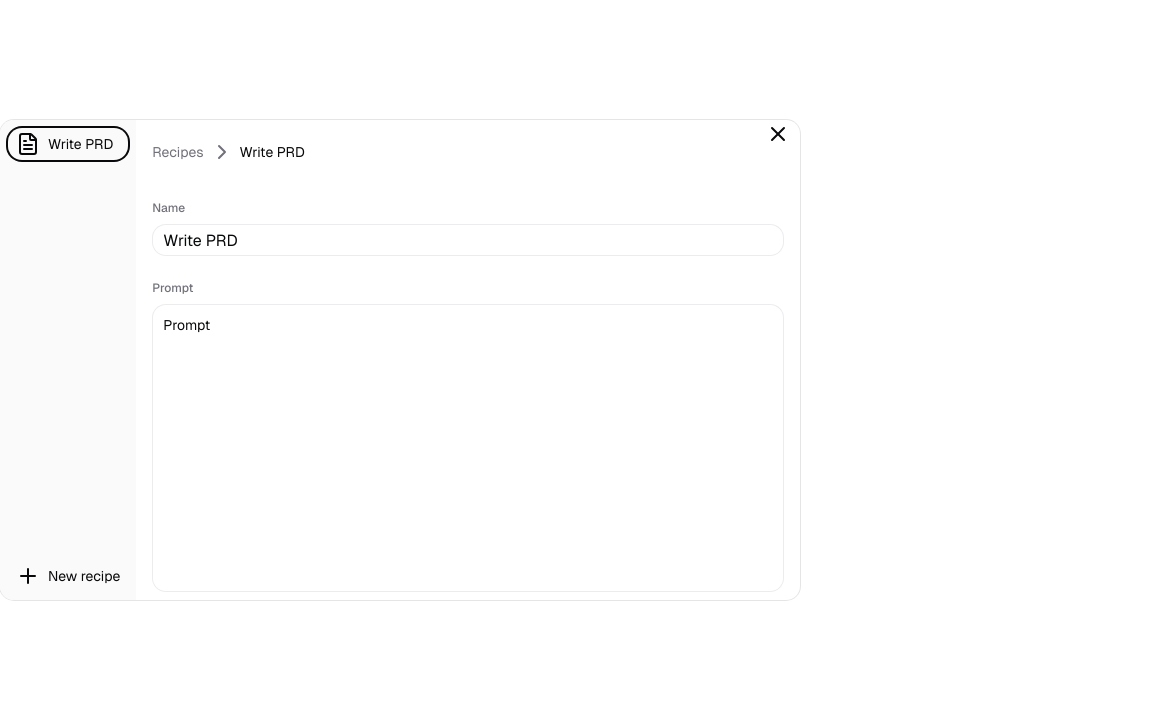
Scenario: manage dialog create actions › adds a new recipe draft from the sidebar action
Click the button "New recipe". click: (68, 576)
box: [8,560,128,592]
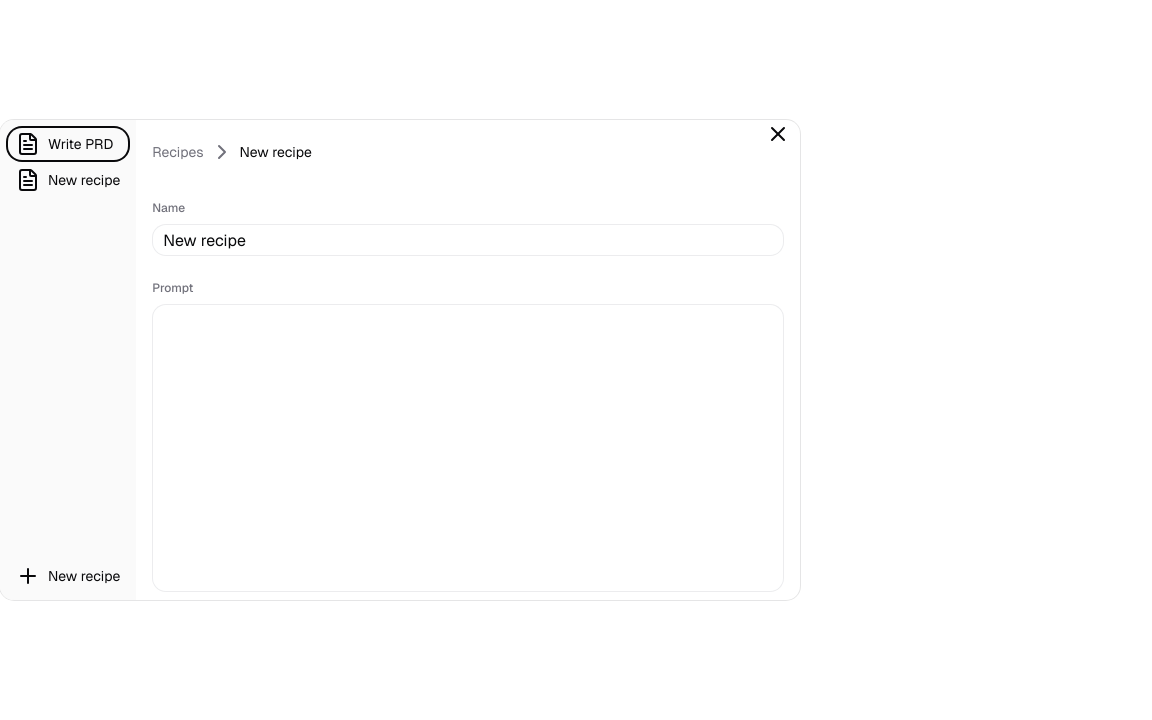
Expected: the field showing "New recipe" is shown, [152,224,784,256]
